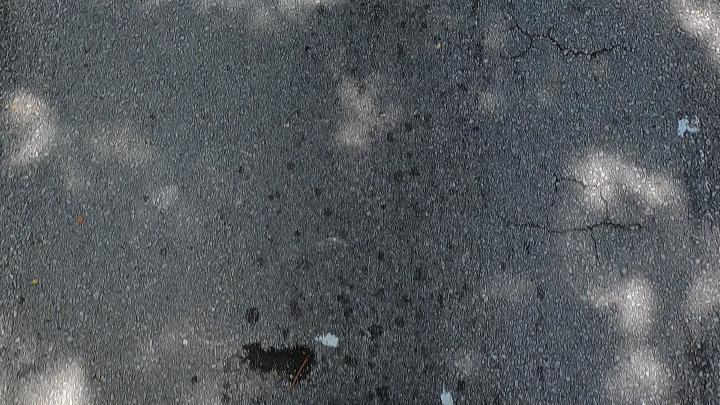Crack: (482, 176, 647, 264), (480, 177, 642, 264), (493, 0, 619, 63), (502, 0, 615, 62)
